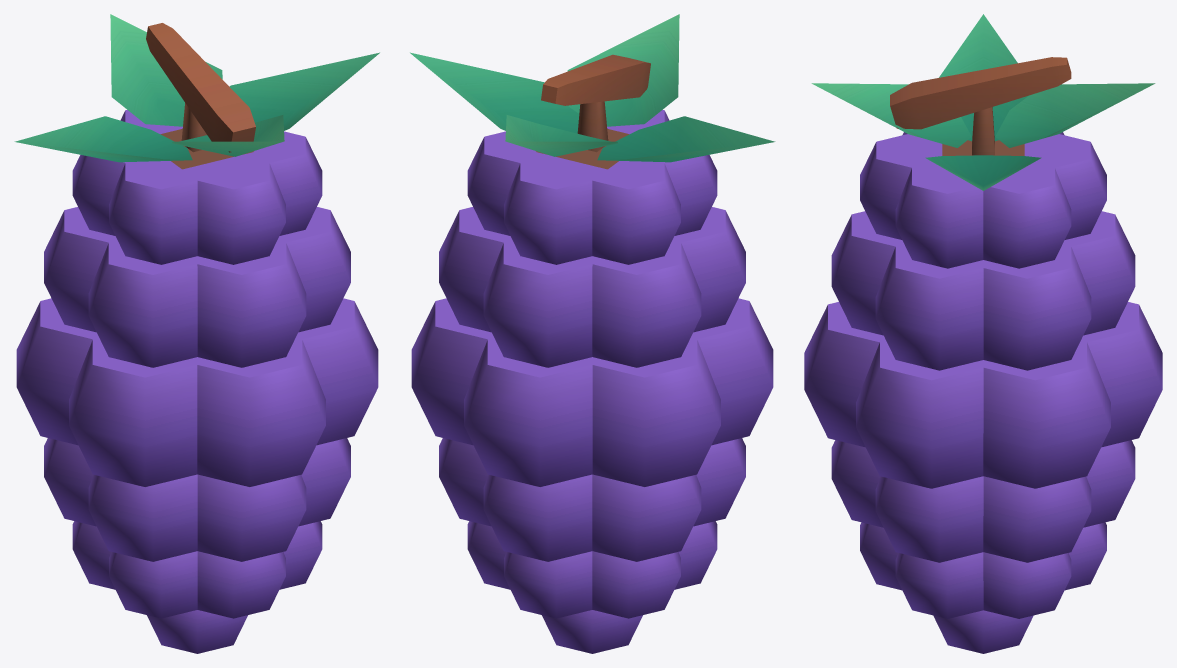
Rendered from grapes.glb.
3 views of the same model, side by side, from view 1: azimuth 30°, elevation 25°; view 2: azimuth 150°, elevation 25°; view 3: azimuth 270°, elevation 25° (orthographic).
Visible parts, largest first — view 1: grapes; view 2: grapes; view 3: grapes.
Part boxes in pixels (x1,y1,x2,y2): grapes: [14, 14, 379, 653]; grapes: [410, 14, 775, 653]; grapes: [804, 14, 1162, 653].
Bounding box in the file's own units: 0.279 × 0.4226 × 0.2386.
Materials: 1 (1 with a texture image).
